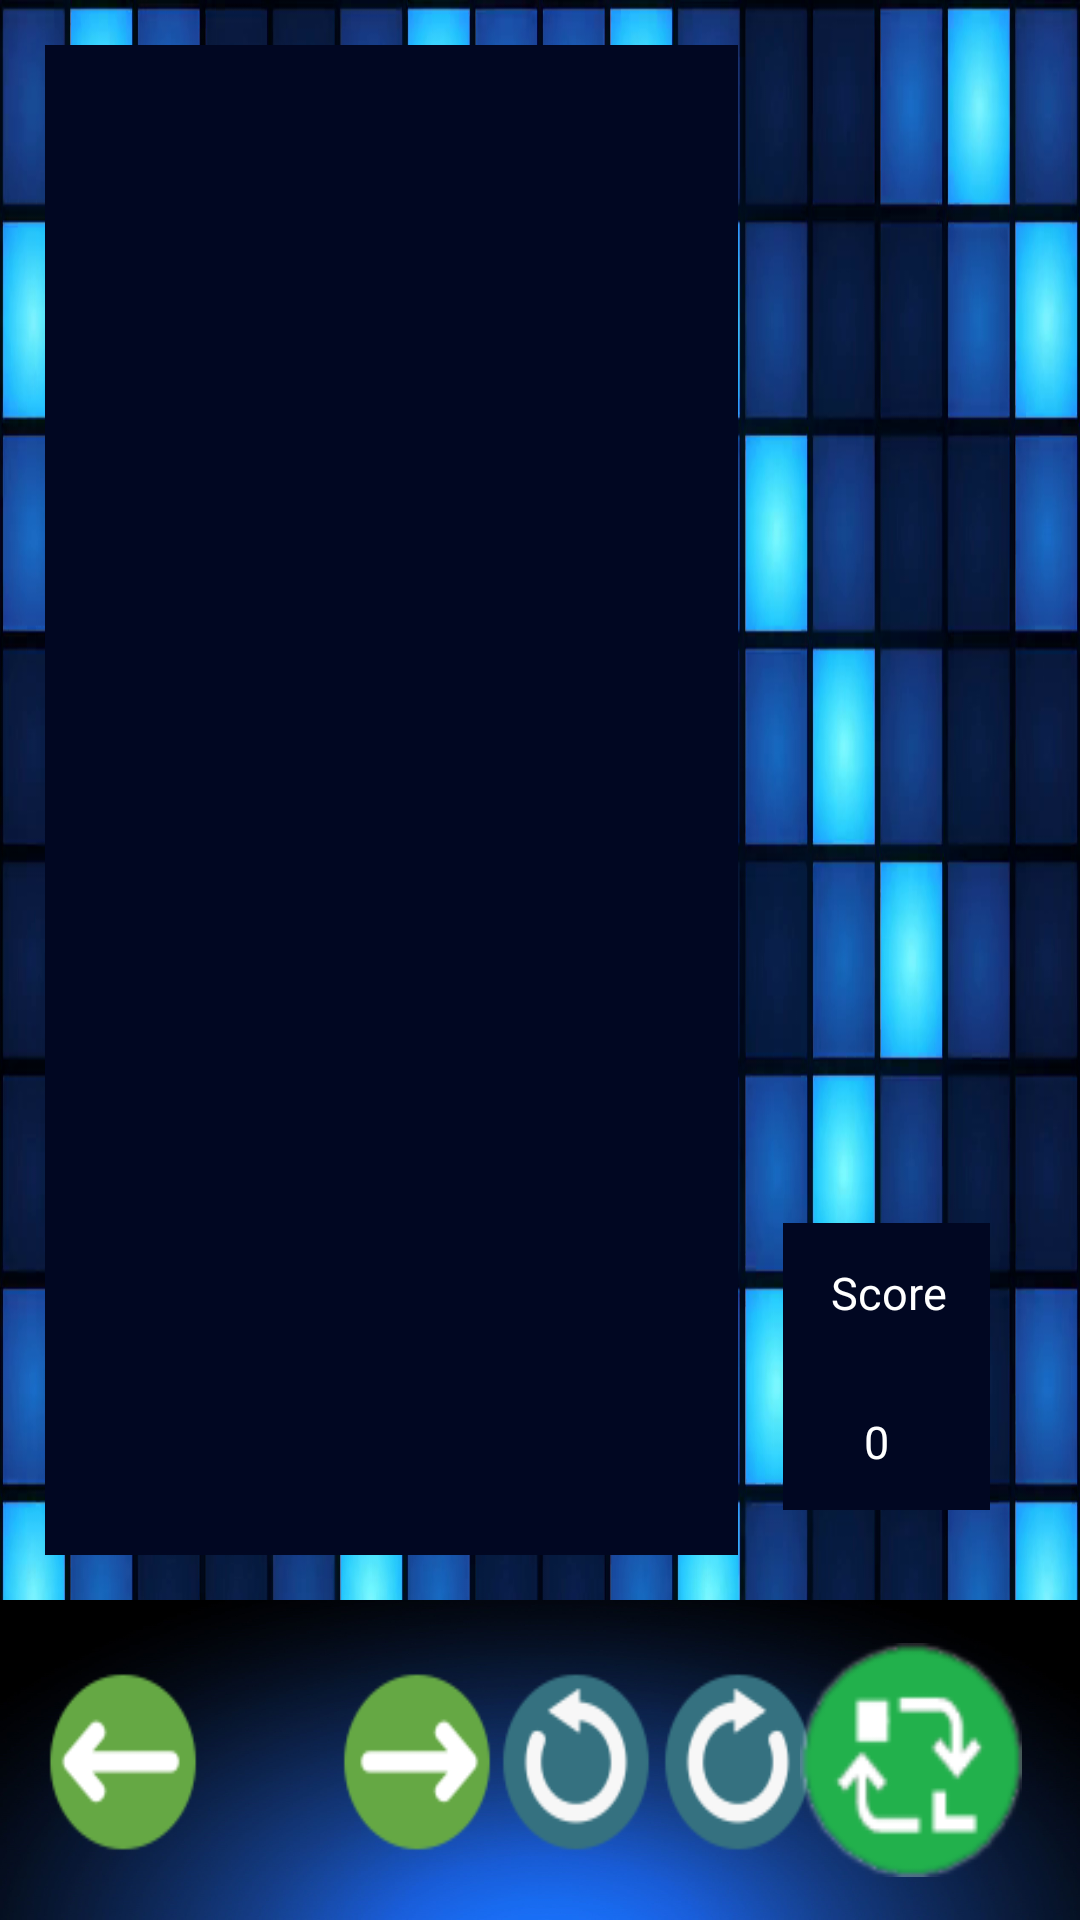

Icon click points for this 1080×1920 phone screenshot, format (x,y):
change piece: (911,1760)
giraricon: (738,1762)
girariconizq: (576,1762)
lefticon: (123,1762)
righticon: (417,1762)
